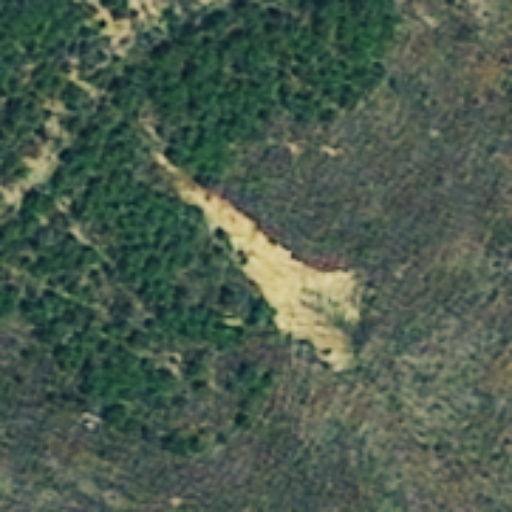landslide: (173, 171, 362, 375)
